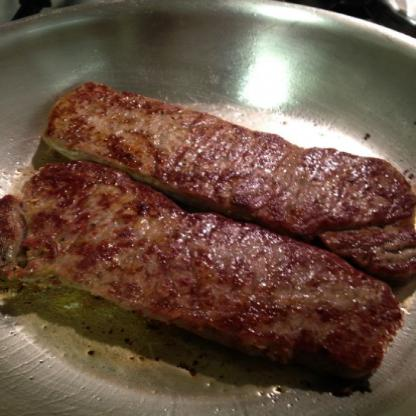Carne: (0, 161, 408, 381), (37, 75, 415, 272)
